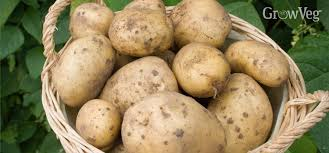potato: (127, 95, 225, 153), (51, 34, 111, 100), (101, 56, 175, 101), (226, 35, 298, 81), (109, 6, 180, 50), (175, 41, 227, 97)
